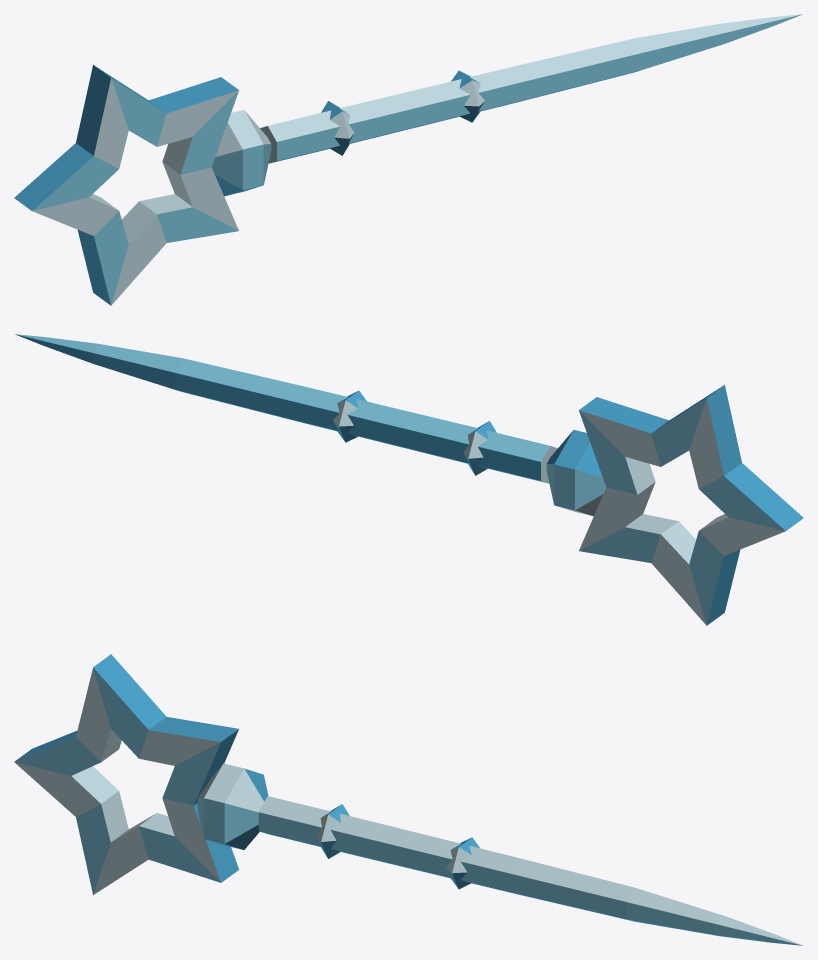
Rendered from needle_crystal.glb.
3 views of the same model, one above another, from view 1: azimuth 30°, elevation 25°; view 2: azimuth 150°, elevation 25°; view 3: azimuth 330°, elevation 25° (orthographic).
Parts seen in each view (by area): view 1: needle_crystal; view 2: needle_crystal; view 3: needle_crystal.
Part boxes in pixels (<box>): needle_crystal: <box>14,14,803,305</box>; needle_crystal: <box>14,334,803,625</box>; needle_crystal: <box>14,654,803,945</box>.
Size of the model in its own units: 0.6 by 0.1674 by 0.052.
